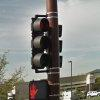Traffic light: (29, 9, 67, 83)
